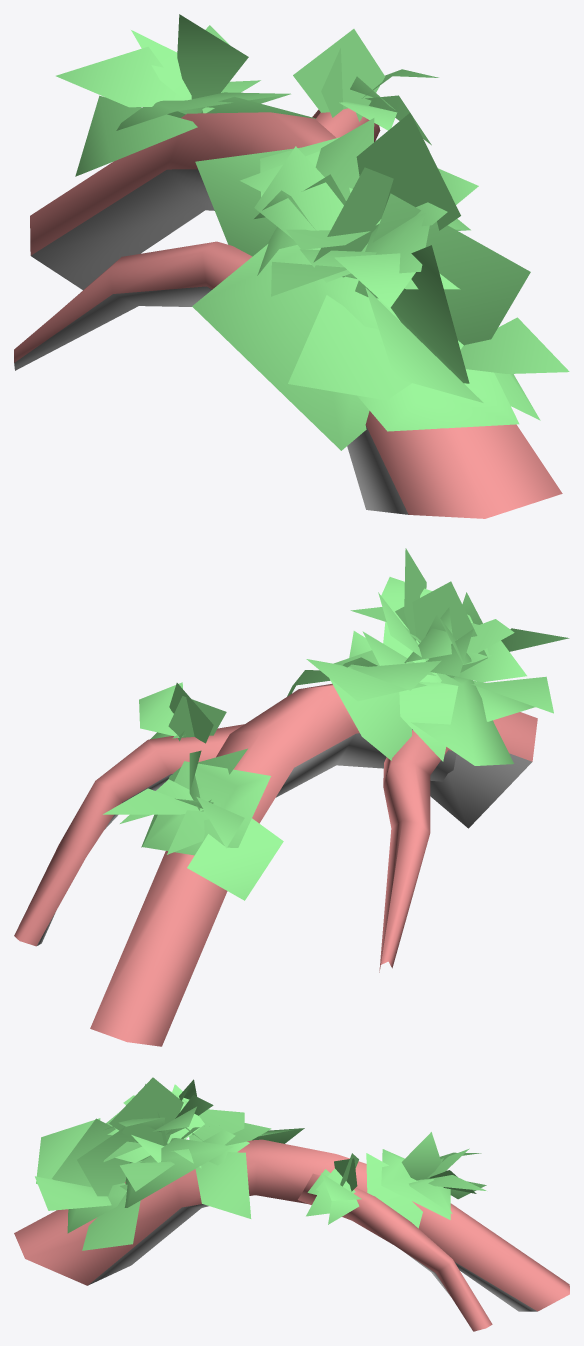
The model's file is Oren_tree_S__Oren_Darkelf_tree10.gltf.
The picture shows the model from 3 angles, top to bottom: view 1: azimuth 30°, elevation 25°; view 2: azimuth 150°, elevation 25°; view 3: azimuth 270°, elevation 25°; orthographic projection. The views are drawn at different scales.
Visible parts, largest first — view 1: Oren_Darkelf_tree10; view 2: Oren_Darkelf_tree10; view 3: Oren_Darkelf_tree10.
Part boxes in pixels (<box>): Oren_Darkelf_tree10: <box>14,14,569,518</box>; Oren_Darkelf_tree10: <box>14,548,569,1046</box>; Oren_Darkelf_tree10: <box>14,1077,569,1331</box>.
Bounding box in the file's own units: 4.18 × 4.13 × 8.89.
